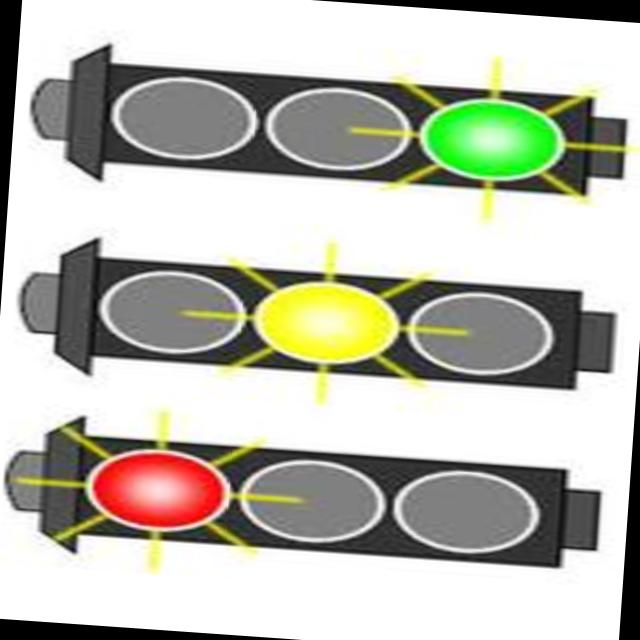green-lights: (412, 94, 581, 180)
red-lights: (71, 438, 240, 538)
yellow-lights: (247, 272, 420, 378)
